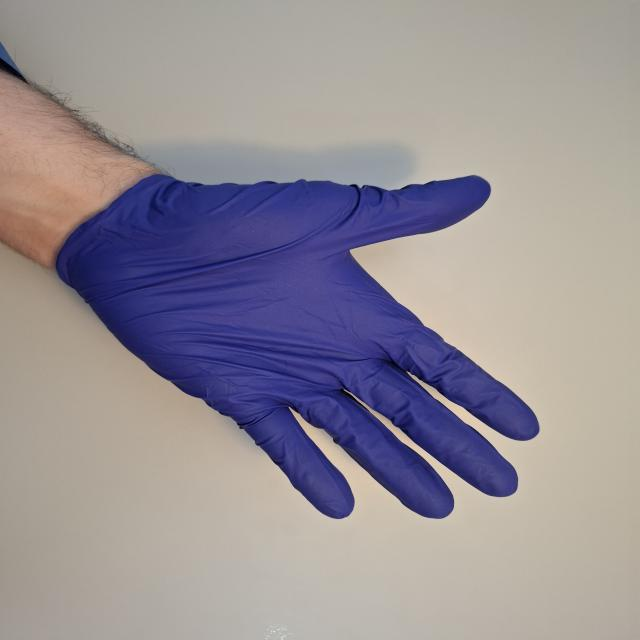glove_on: (52, 160, 544, 523)
